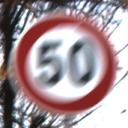speed_limit_50: (16, 16, 116, 114)
